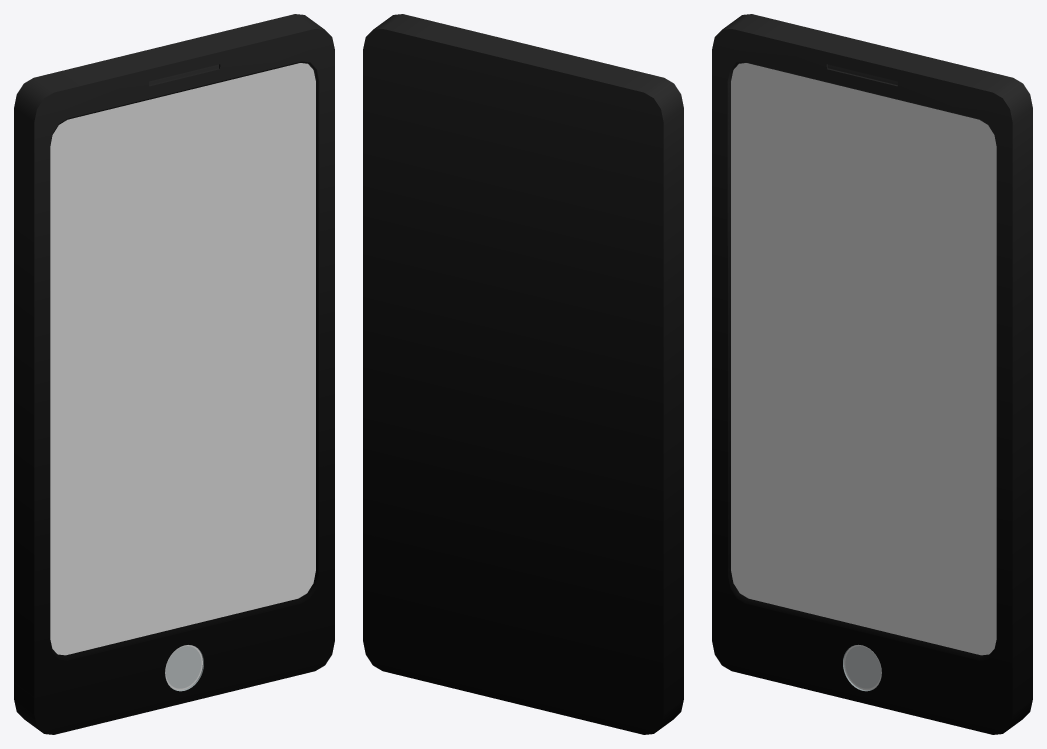
Rendered from ModernToy.fbx.
3 renders of one model, left to right at view 1: azimuth 30°, elevation 25°; view 2: azimuth 150°, elevation 25°; view 3: azimuth 330°, elevation 25°, orthographic.
Visible parts, largest first — view 1: Cube; view 2: Cube; view 3: Cube.
Boxes of the visible parts, x1,y1,x2,y2 form: Cube: [14, 14, 334, 734]; Cube: [363, 14, 683, 734]; Cube: [712, 14, 1032, 734].
Bounding box in the file's own units: 1.8 × 3.68 × 0.21.
2 materials, 1 textured.
